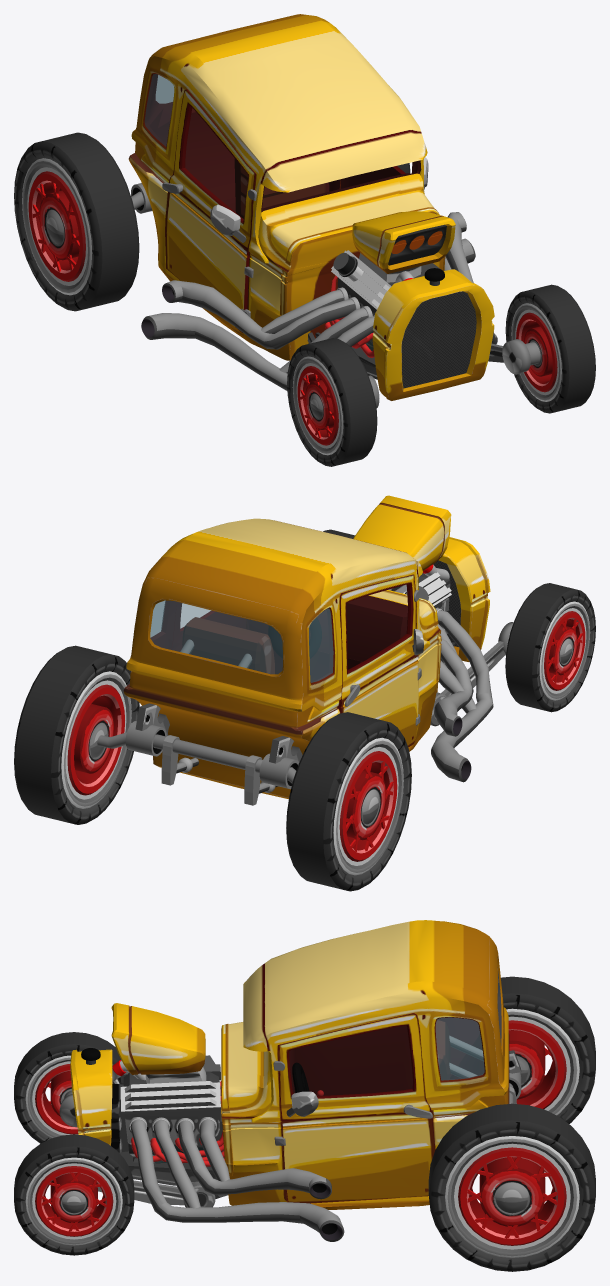
Rendered from hcr2_hot_rod_car2_glb.glb.
The picture shows the model from 3 angles, top to bottom: view 1: azimuth 30°, elevation 25°; view 2: azimuth 150°, elevation 25°; view 3: azimuth 270°, elevation 25°; orthographic projection. The views are drawn at different scales.
Visible parts, largest first — view 1: HCR2_HotRod_Body_2, HCR2_HotRod_RR_Wheel_4, HCR2_HotRod_Body_Front_3, HCR2_HotRod_Door_Right_8, HCR2_HotRod_FR_Wheel_5, HCR2_HotRod_FL_Wheel_6, HCR2_HotRod_Interior_17, HCR2_HotRod_Exhausts_11, HCR2_HotRod_Exhausts2_12, HCR2_HotRod_Scoop_16, HCR2_HotRod_Engine_10, HCR2_HotRod_Windows_15 (+2 smaller); view 2: HCR2_HotRod_Body_2, HCR2_HotRod_RR_Wheel_4, HCR2_HotRod_RL_Wheel_7, HCR2_HotRod_FR_Wheel_5, HCR2_HotRod_Interior_17, HCR2_HotRod_Windows_15, HCR2_HotRod_Door_Right_8, HCR2_HotRod_Rear_Susp_19, HCR2_HotRod_Scoop_16, HCR2_HotRod_Body_Front_3, HCR2_HotRod_Exhausts2_12, HCR2_HotRod_Exhausts_11 (+5 smaller); view 3: HCR2_HotRod_Body_2, HCR2_HotRod_RL_Wheel_7, HCR2_HotRod_Door_Left_9, HCR2_HotRod_FL_Wheel_6, HCR2_HotRod_RR_Wheel_4, HCR2_HotRod_Engine_10, HCR2_HotRod_Exhausts2_12, HCR2_HotRod_Door_Right_8, HCR2_HotRod_FR_Wheel_5, HCR2_HotRod_Scoop_16, HCR2_HotRod_Body_Front_3, HCR2_HotRod_Exhausts_11 (+4 smaller).
Part boxes in pixels (<box>): HCR2_HotRod_Body_2: <box>128,14,445,360</box>; HCR2_HotRod_RR_Wheel_4: <box>14,132,139,311</box>; HCR2_HotRod_Body_Front_3: <box>307,268,494,400</box>; HCR2_HotRod_Door_Right_8: <box>162,89,256,332</box>; HCR2_HotRod_FR_Wheel_5: <box>287,338,377,466</box>; HCR2_HotRod_FL_Wheel_6: <box>505,284,595,413</box>; HCR2_HotRod_Interior_17: <box>144,74,421,218</box>; HCR2_HotRod_Exhausts_11: <box>162,212,473,349</box>; HCR2_HotRod_Exhausts2_12: <box>141,238,497,390</box>; HCR2_HotRod_Scoop_16: <box>352,211,455,273</box>; HCR2_HotRod_Engine_10: <box>325,250,439,357</box>; HCR2_HotRod_Windows_15: <box>144,74,174,146</box>; HCR2_HotRod_Body_2: <box>123,518,441,799</box>; HCR2_HotRod_RR_Wheel_4: <box>286,712,411,891</box>; HCR2_HotRod_RL_Wheel_7: <box>14,645,139,824</box>; HCR2_HotRod_FR_Wheel_5: <box>505,583,595,712</box>; HCR2_HotRod_Interior_17: <box>150,595,407,682</box>; HCR2_HotRod_Windows_15: <box>150,600,333,682</box>; HCR2_HotRod_Door_Right_8: <box>337,574,423,747</box>; HCR2_HotRod_Rear_Susp_19: <box>97,721,299,805</box>; HCR2_HotRod_Scoop_16: <box>353,495,451,570</box>; HCR2_HotRod_Body_Front_3: <box>433,537,490,665</box>; HCR2_HotRod_Exhausts2_12: <box>139,610,493,782</box>; HCR2_HotRod_Exhausts_11: <box>434,638,473,736</box>; HCR2_HotRod_Body_2: <box>221,920,509,1209</box>; HCR2_HotRod_RL_Wheel_7: <box>428,1103,595,1271</box>; HCR2_HotRod_Door_Left_9: <box>273,1013,435,1203</box>; HCR2_HotRod_FL_Wheel_6: <box>14,1134,134,1255</box>; HCR2_HotRod_RR_Wheel_4: <box>501,976,595,1123</box>; HCR2_HotRod_Engine_10: <box>90,1055,224,1166</box>; HCR2_HotRod_Exhausts2_12: <box>131,1120,344,1241</box>; HCR2_HotRod_Door_Right_8: <box>295,1025,412,1095</box>; HCR2_HotRod_FR_Wheel_5: <box>14,1032,123,1143</box>; HCR2_HotRod_Scoop_16: <box>111,1003,205,1074</box>; HCR2_HotRod_Body_Front_3: <box>70,1048,228,1198</box>; HCR2_HotRod_Exhausts_11: <box>178,1088,331,1199</box>.
Size of the model in its own units: 2.82 by 2.17 by 4.55.
4 materials, 2 textured.
